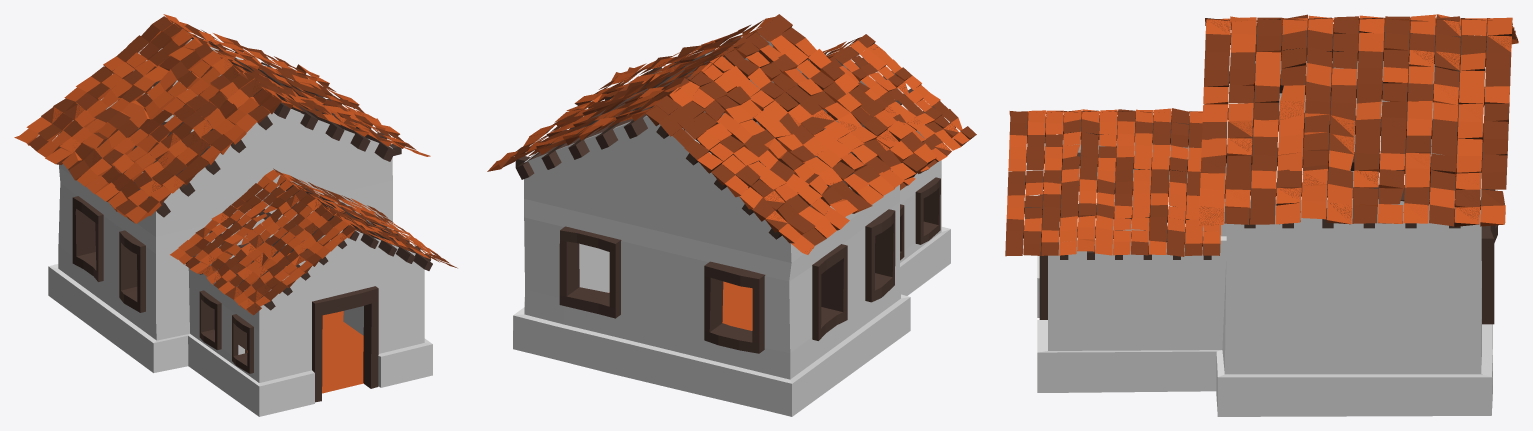
Rendered from house.fbx.
3 views of the same model, side by side, from view 1: azimuth 30°, elevation 25°; view 2: azimuth 150°, elevation 25°; view 3: azimuth 270°, elevation 25° (orthographic). The views are drawn at different scales.
Visible parts, largest first — view 1: house, roof, windows, beams, door-frame; view 2: house, roof, windows, beams; view 3: roof, house, beams, windows, door-frame.
Boxes of the visible parts, box(x1,y1,x2,y2) form: house: box(48, 39, 432, 416); roof: box(14, 14, 457, 315); windows: box(72, 196, 253, 373); beams: box(52, 37, 432, 310); door-frame: box(312, 286, 378, 402); house: box(513, 35, 950, 416); roof: box(487, 14, 976, 254); windows: box(559, 177, 940, 353); beams: box(515, 32, 955, 239); roof: box(1005, 14, 1518, 256); house: box(1037, 30, 1492, 416); beams: box(1023, 25, 1487, 259); windows: box(1077, 117, 1497, 324); door-frame: box(1039, 191, 1047, 319).
Size of the model in its own units: 2190 by 1776 by 2562.
